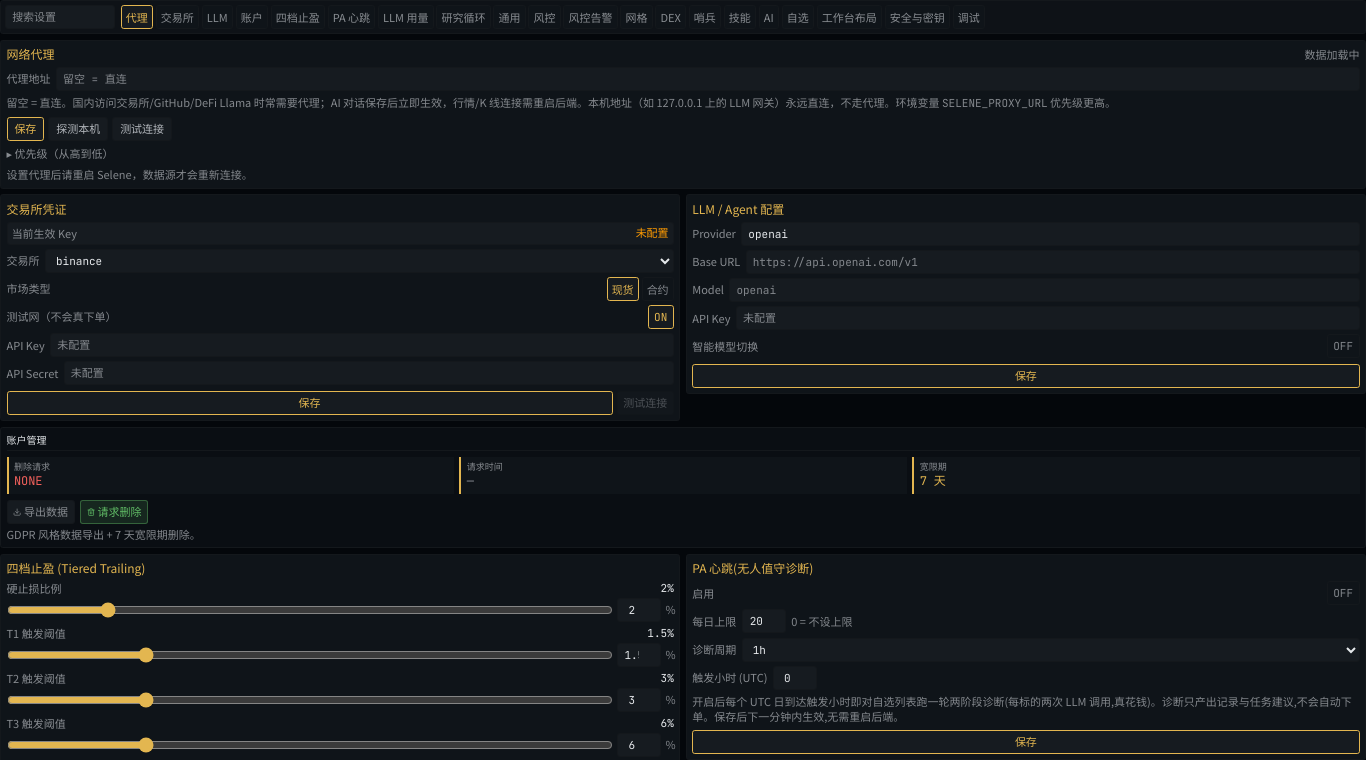
Test case: 设置页 P1:搜索 › 无结果给空态而不是一片空白
Type "zzz不可能命中zzz" into the search field labelled "搜索设置".
click(60, 17); type("zzz不可能命中zzz")  # box [5,5,115,29]
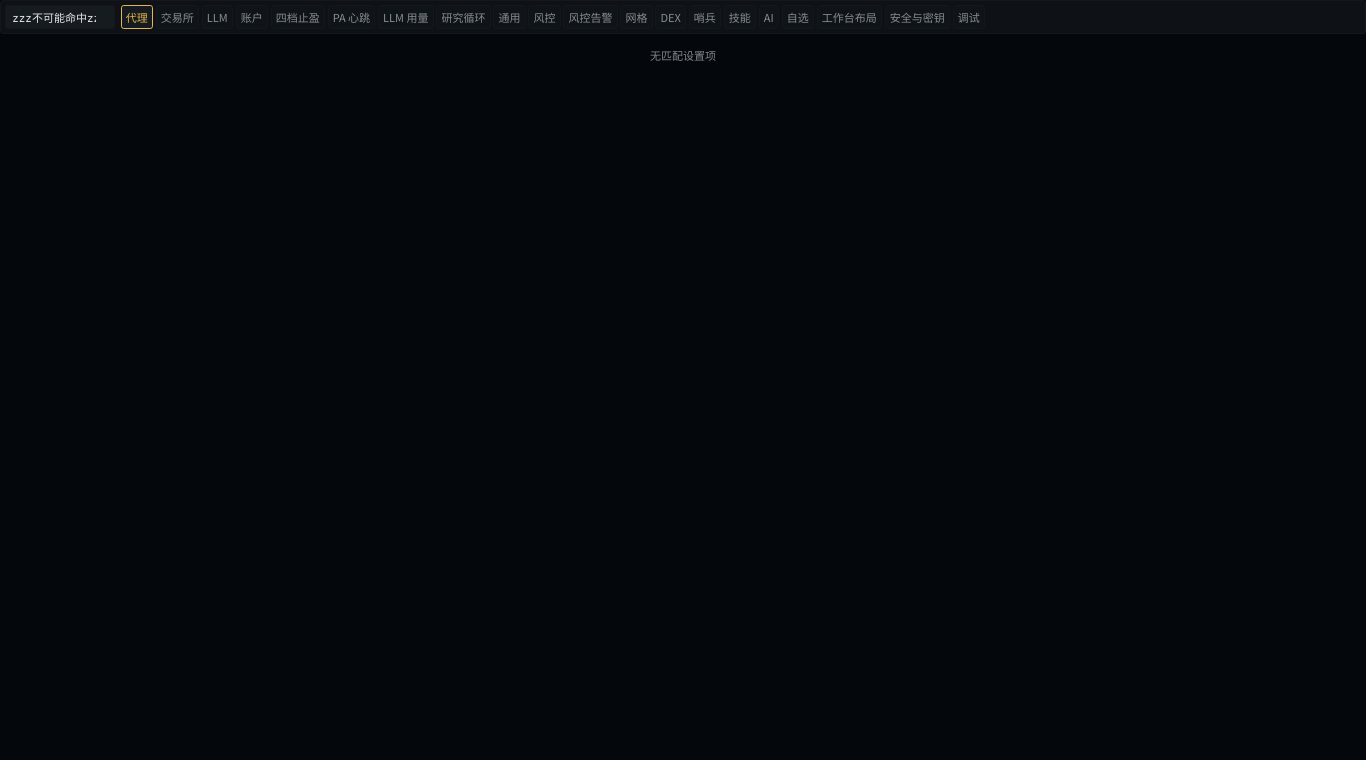
Check: the text "无匹配设置项" is shown, box [650,47,716,63]
